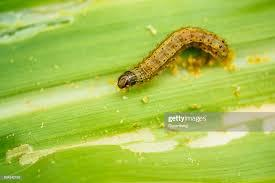fallarmy_worm: (109, 25, 233, 94)
